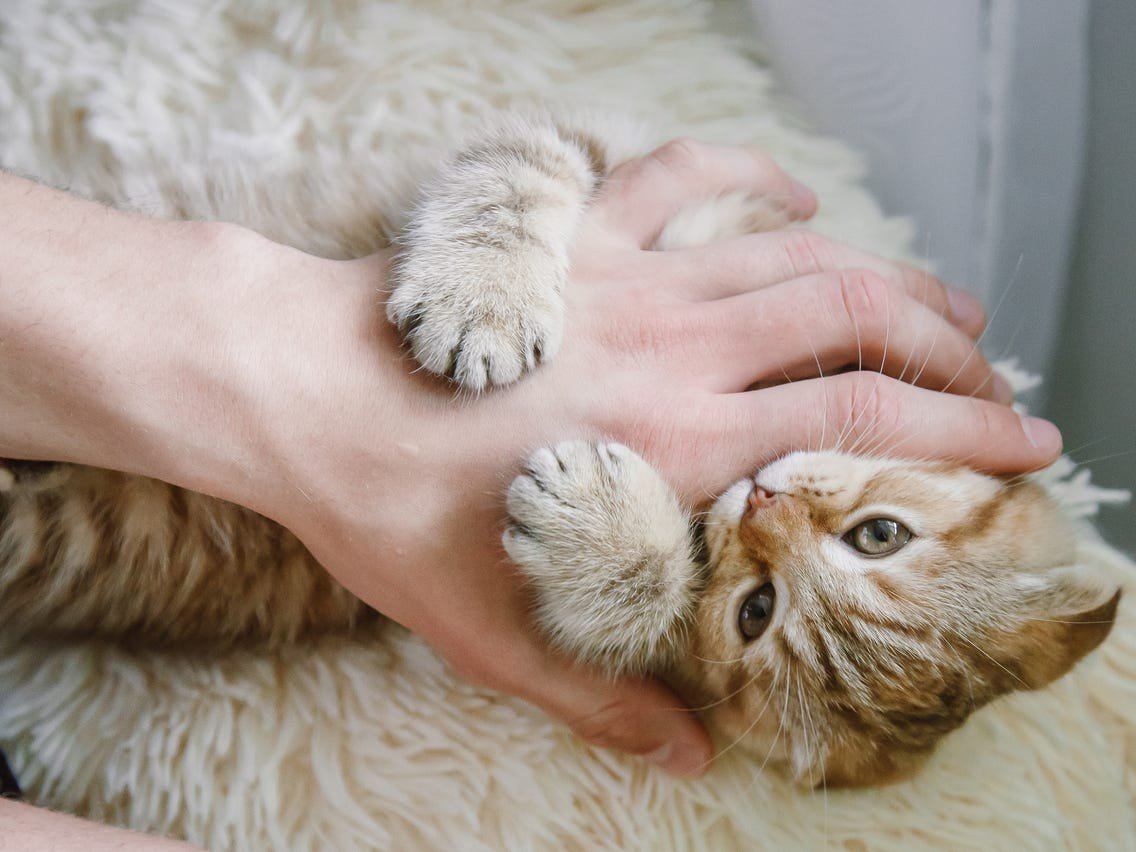cat: (361, 67, 1136, 809)
